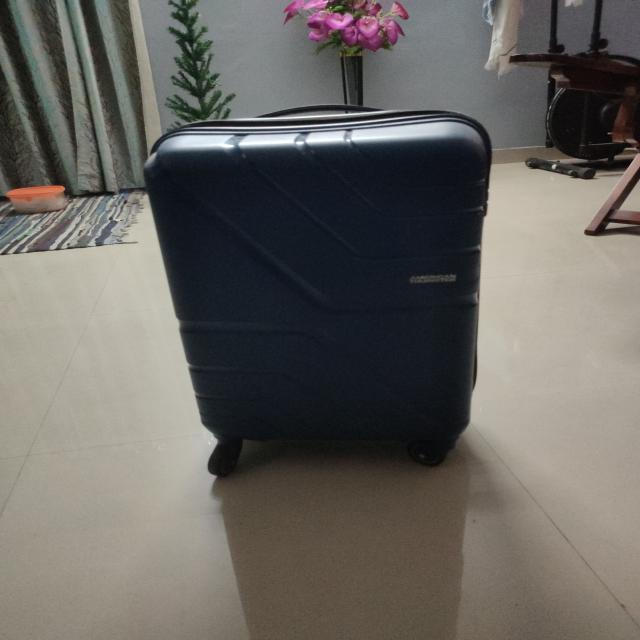suitcaserotation: (140, 100, 494, 480)
